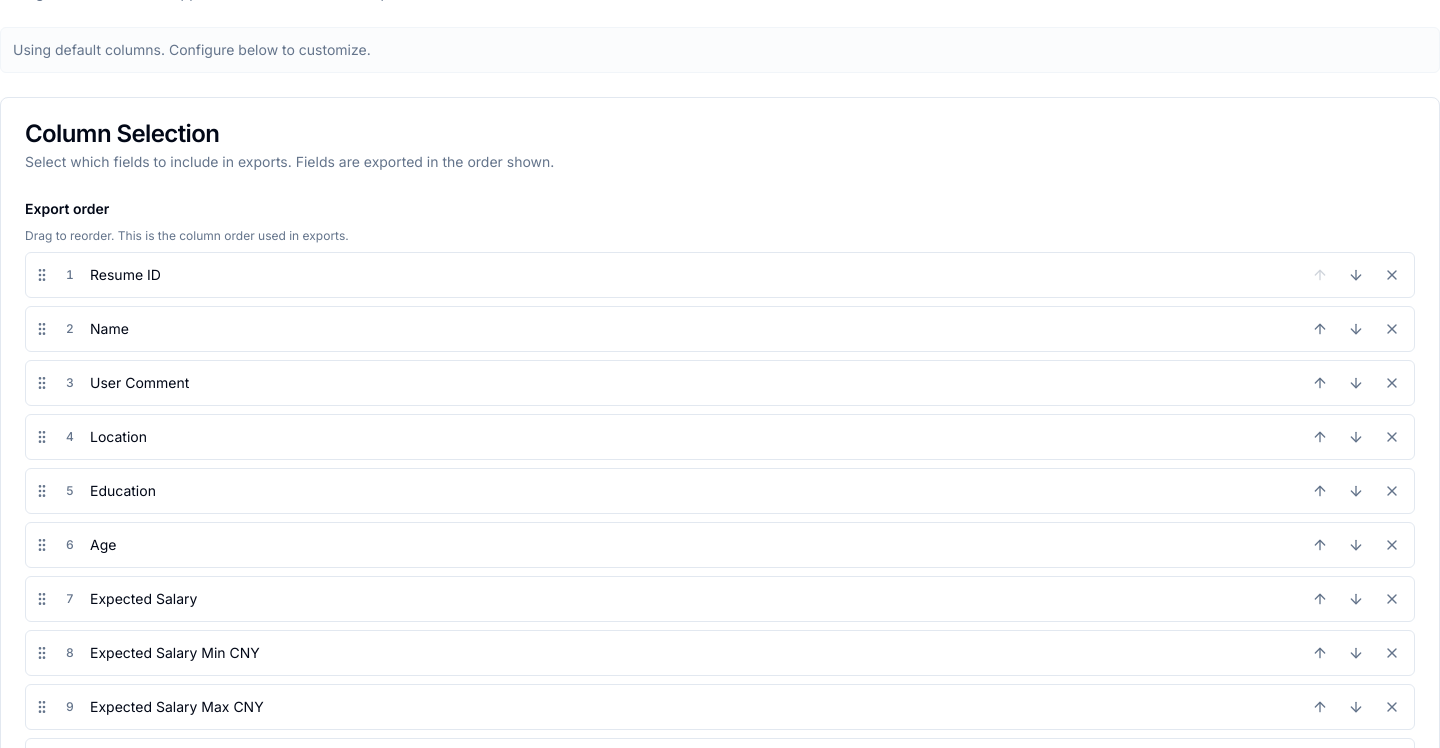
Test: SystemSettingsExportFieldsPage state › removes a field from export order back to available
What coordinates should you click on to do the following:
click the button named "Remove User Comment"
I would click on:
 (1392, 383)
Its box is [1378, 369, 1406, 397].
(page scrolled)
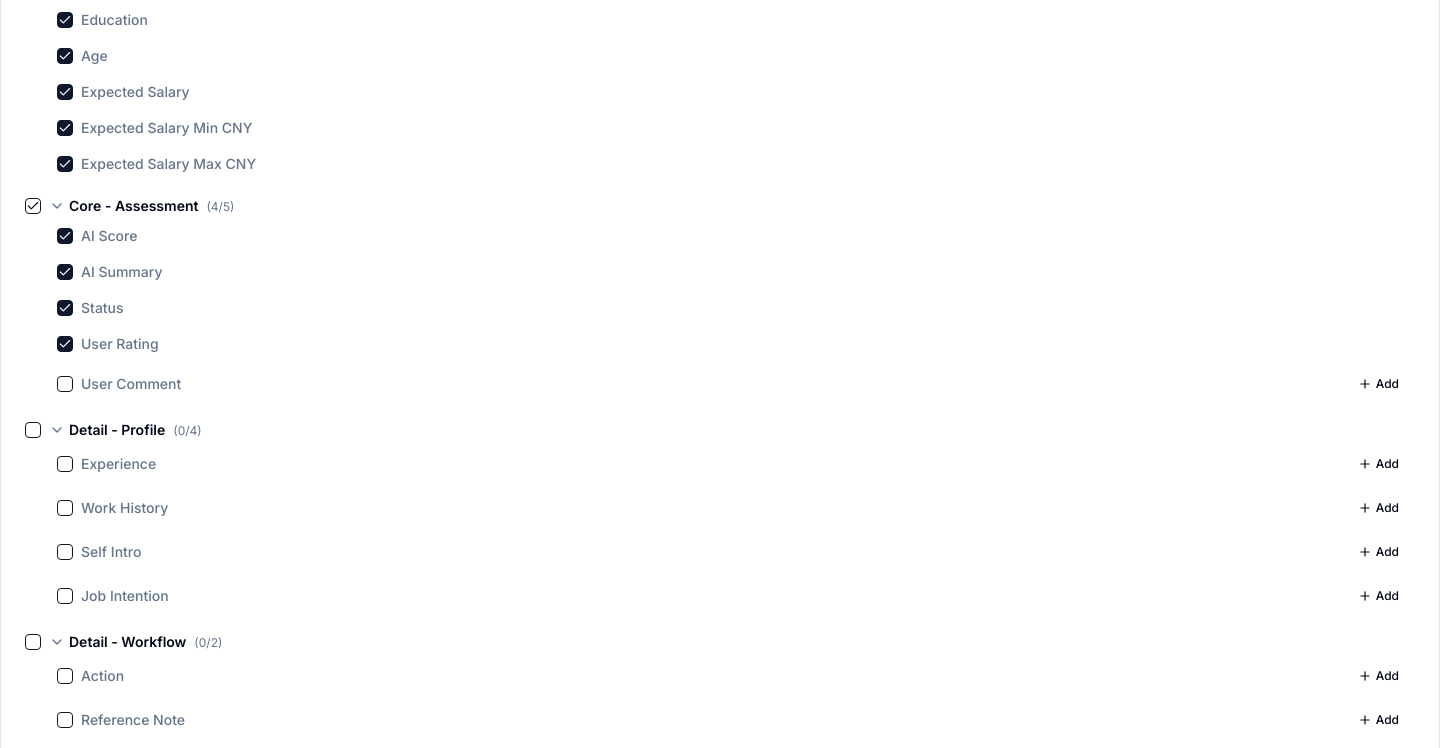
Expected: the checkbox named "User Comment" is not checked, [57, 376, 73, 392]
